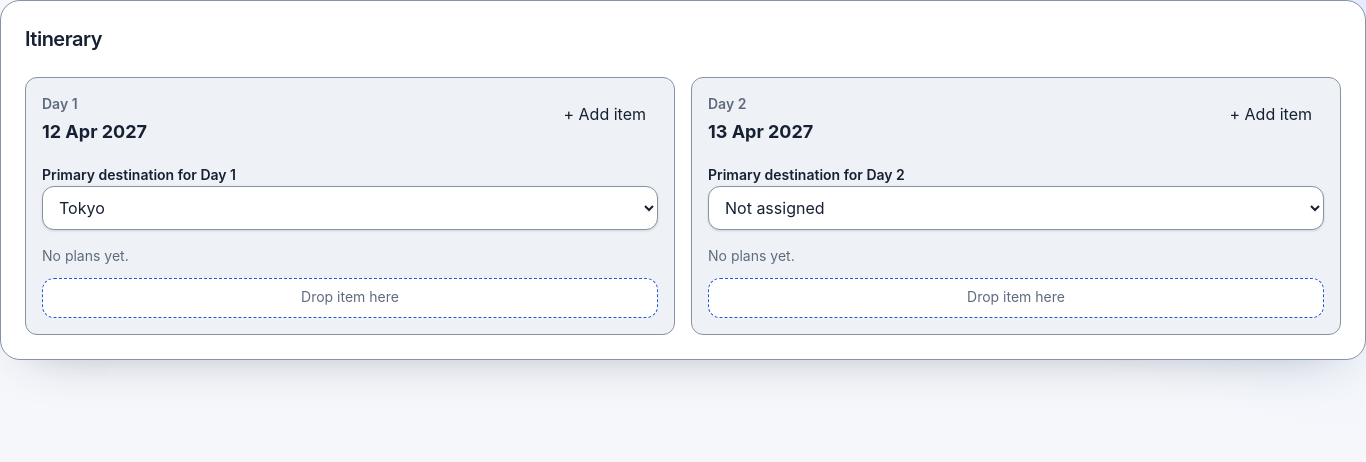
Test case: DaysSection › reassigns a Day and safely reports mutation failures
Step 1. Select "Tokyo" in the dropdown labelled "Primary destination for Day 2" → point(1016, 208), box top-left (708, 186), bottom-right (1324, 230)
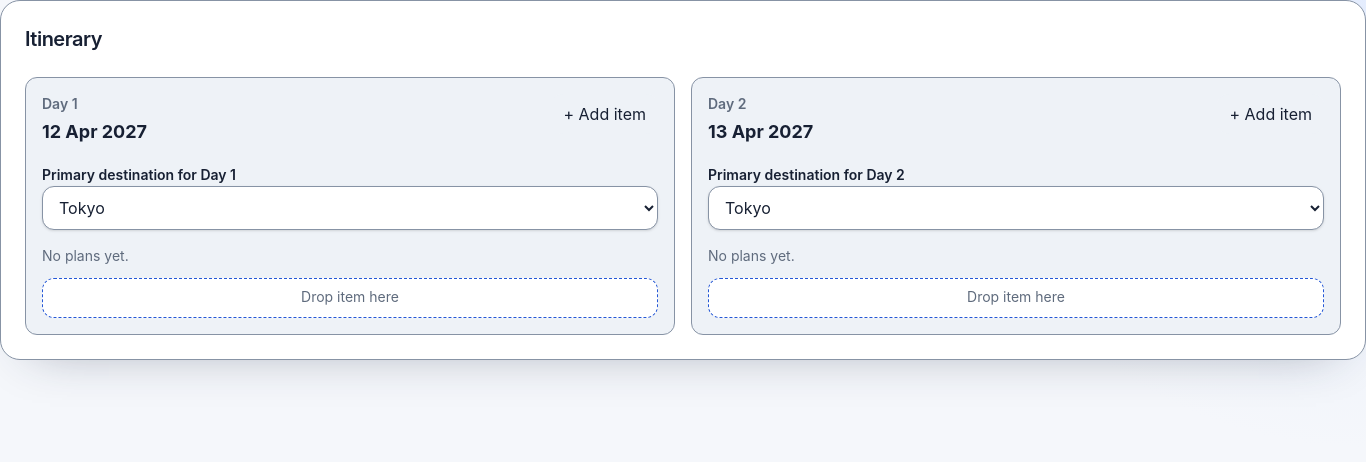
Step 2. Select "Not assigned" in the dropdown labelled "Primary destination for Day 1" → point(350, 208), box top-left (42, 186), bottom-right (658, 230)
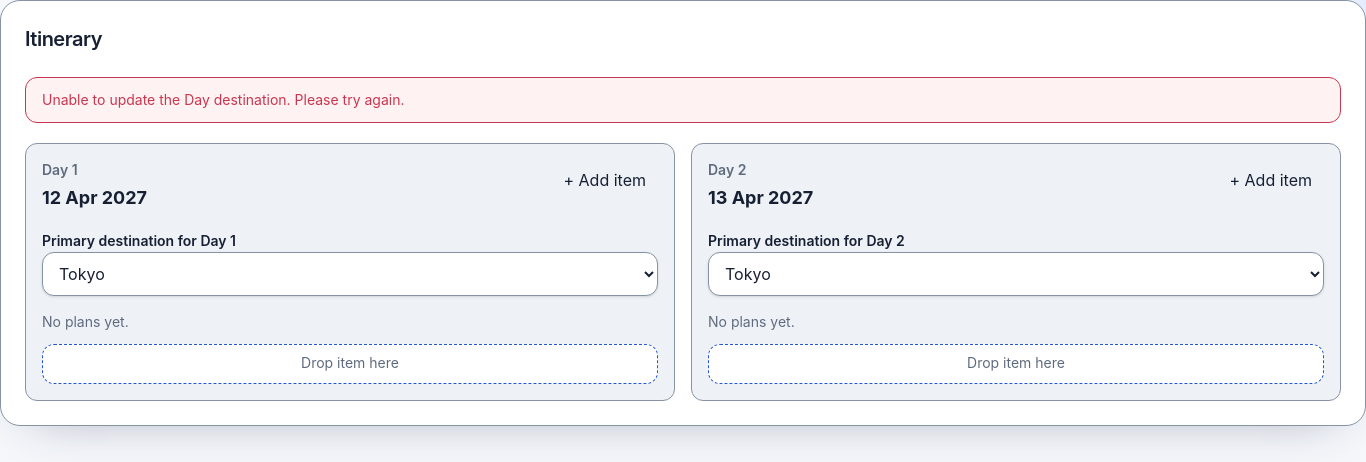
Now the message reads "Unable to update the Day destination. Please try again.", box top-left (42, 91), bottom-right (404, 108)
